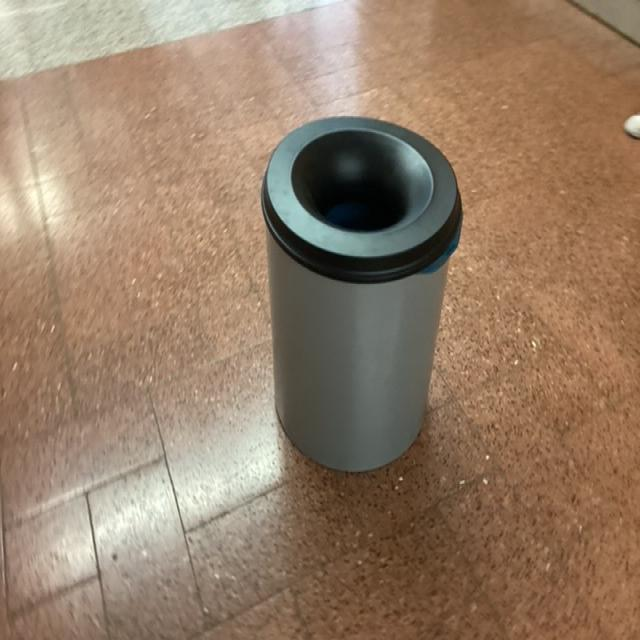garbage container: (249, 81, 483, 473)
